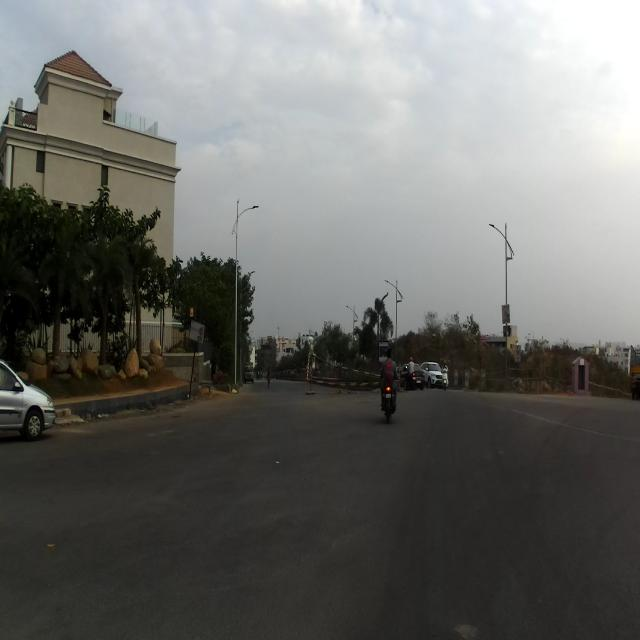motorcycle ahead at: (372, 344, 400, 422)
